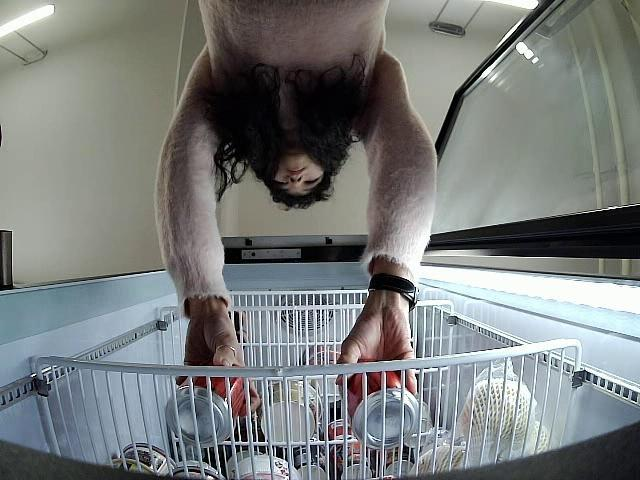11_cocaColaZero: (337, 351, 417, 450), (165, 375, 247, 449)
